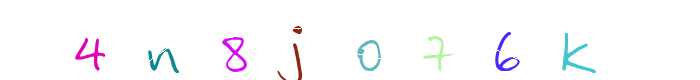0: (310, 0, 390, 80)
4: (122, 0, 202, 80)
6: (427, 0, 507, 80)
7: (374, 0, 454, 80)
8: (238, 0, 318, 80)
J: (256, 0, 336, 80)
K: (464, 0, 544, 80)
N: (125, 0, 205, 80)
